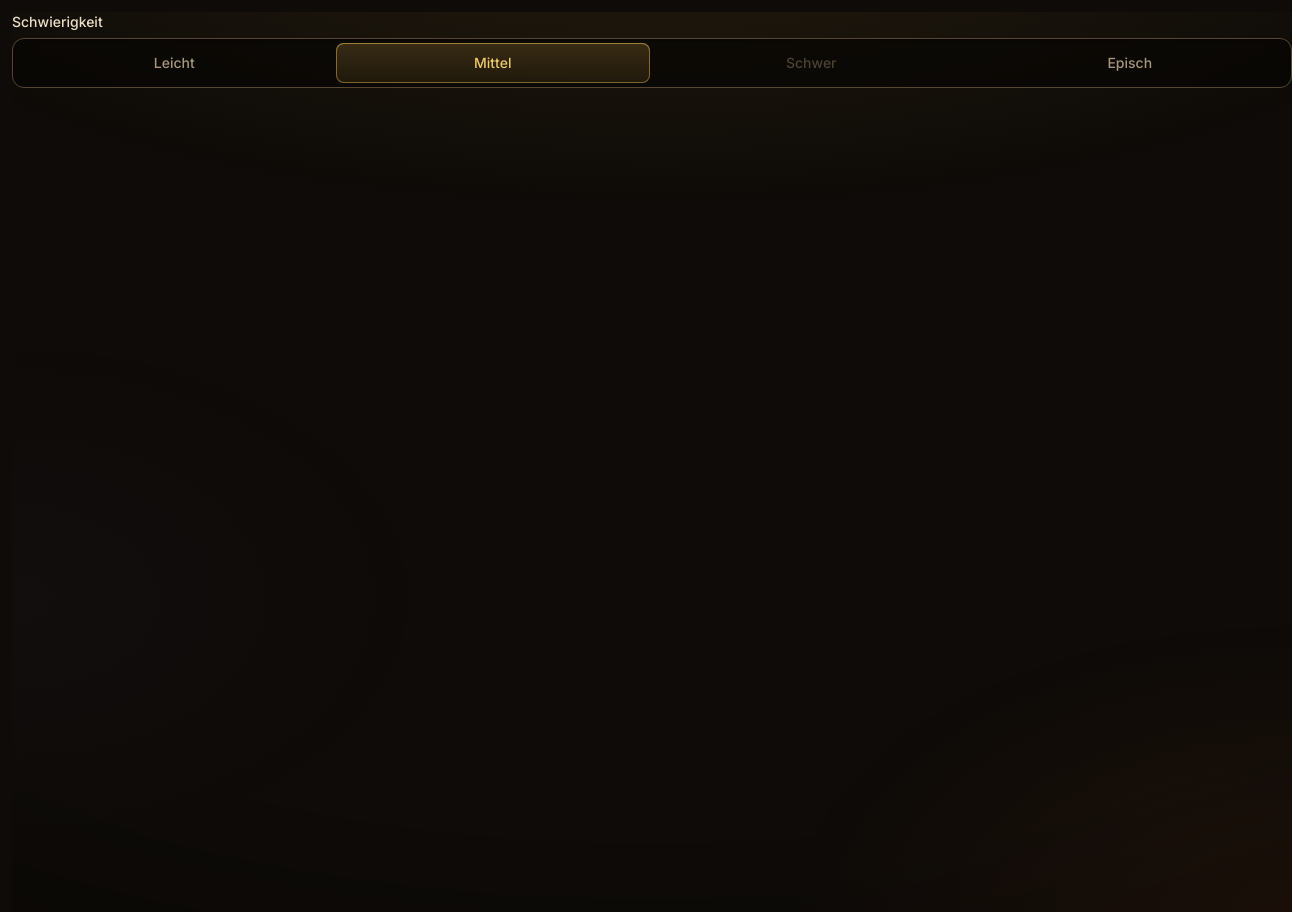
Test: SegmentedControl › wählt per Klick
Step 1. Click the radio button labelled "Episch" → (1130, 63), box 972,43 -> 1287,83
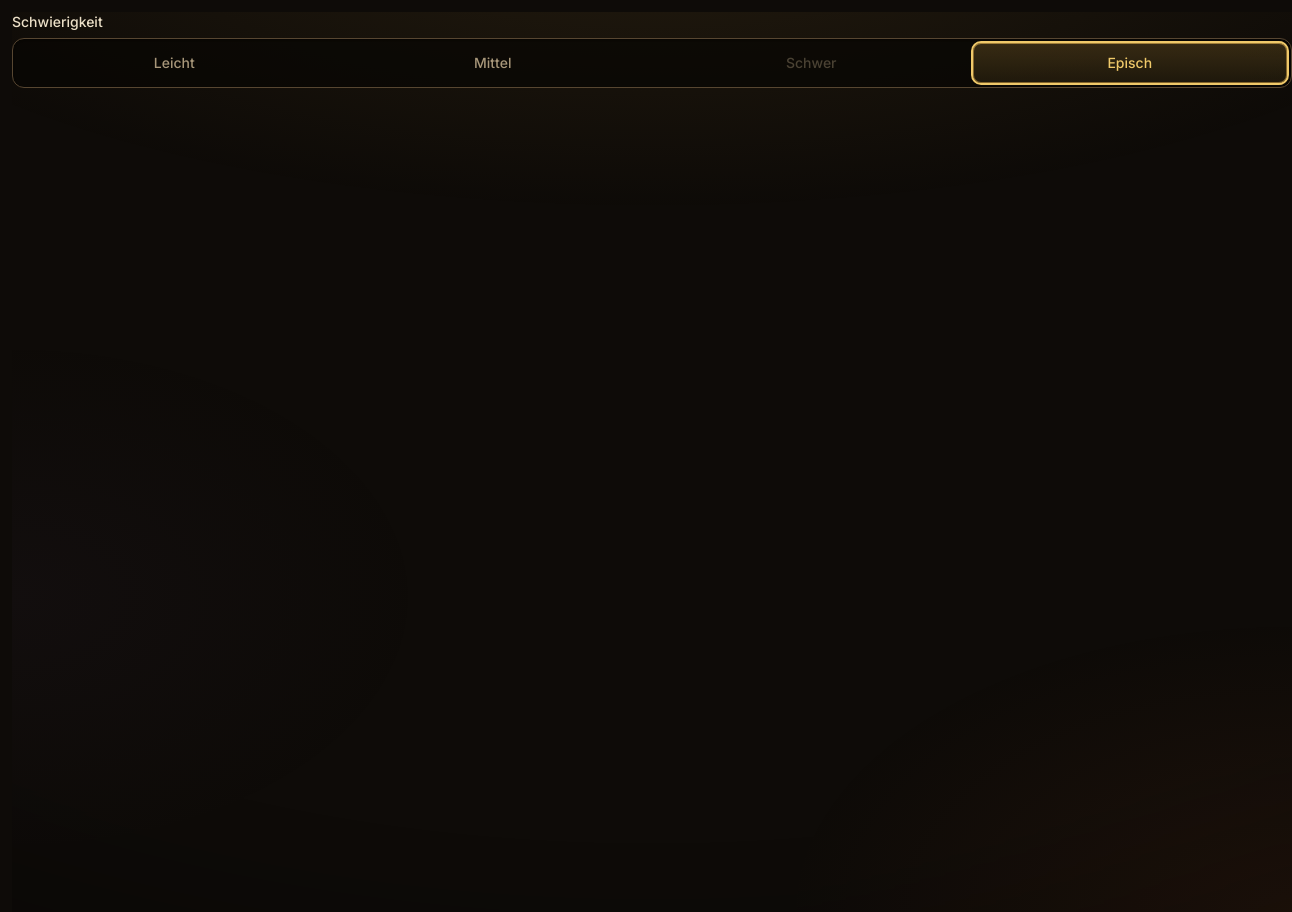
Expected: the radio button labelled "Episch" is checked, 972,43 -> 1287,83
Expected: the radio button labelled "Mittel" is not checked, 336,43 -> 650,83
